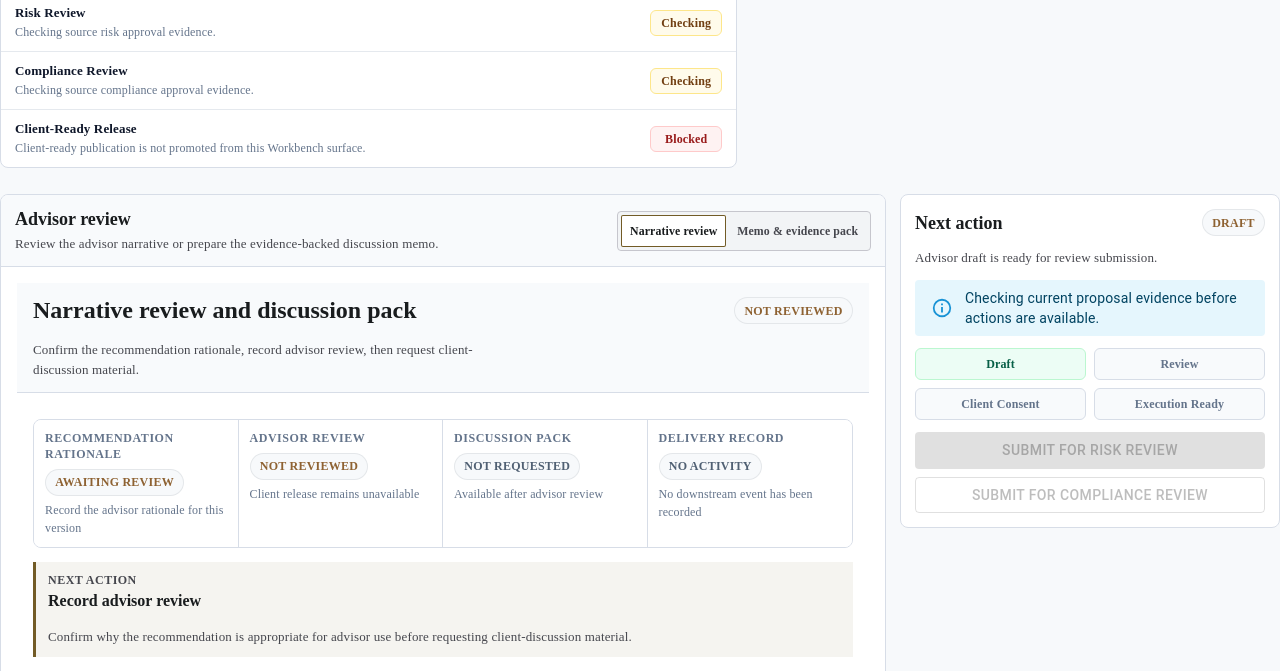
Scenario: ProposalDetailView › keeps proposal actions unavailable until initial review evidence settles
(page scrolled)
Expected: the text "Checking current proposal evidence before actions are available." is shown, [965, 280, 1249, 336]
Click the button "Submit for risk review" at (1090, 451), box [915, 432, 1265, 469]
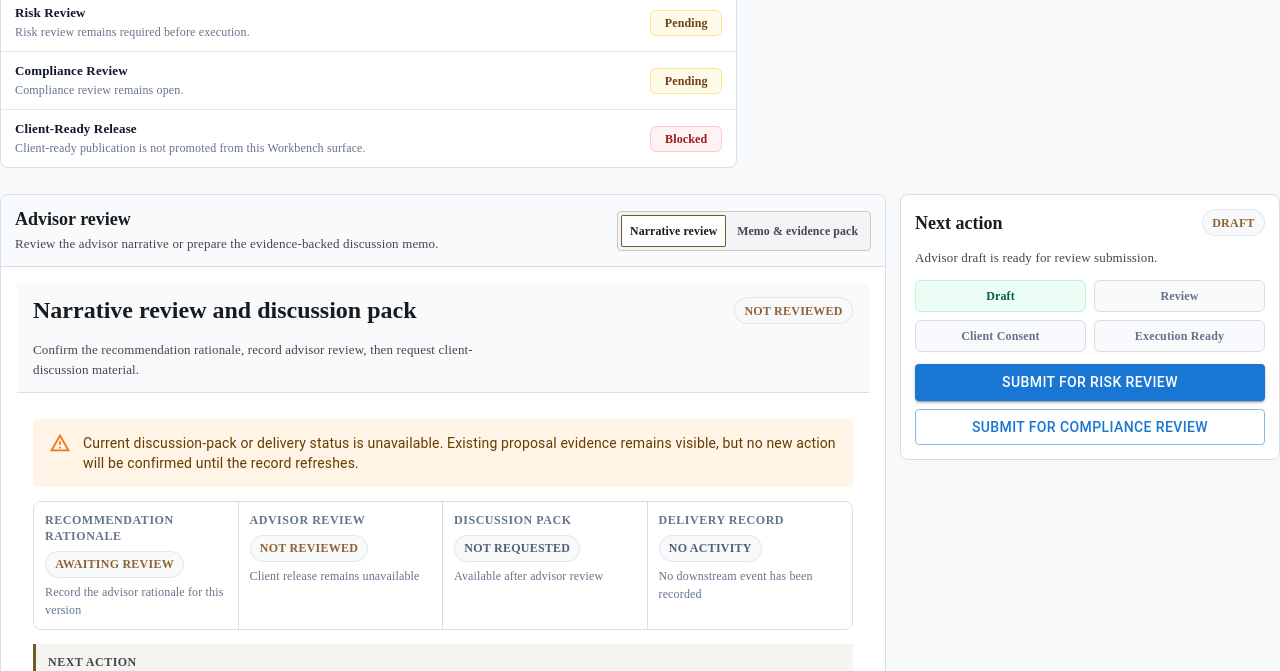
Now the button "Submit for risk review" is enabled
Click the button "Submit for risk review" at (1090, 383), box [915, 364, 1265, 401]
(page scrolled)
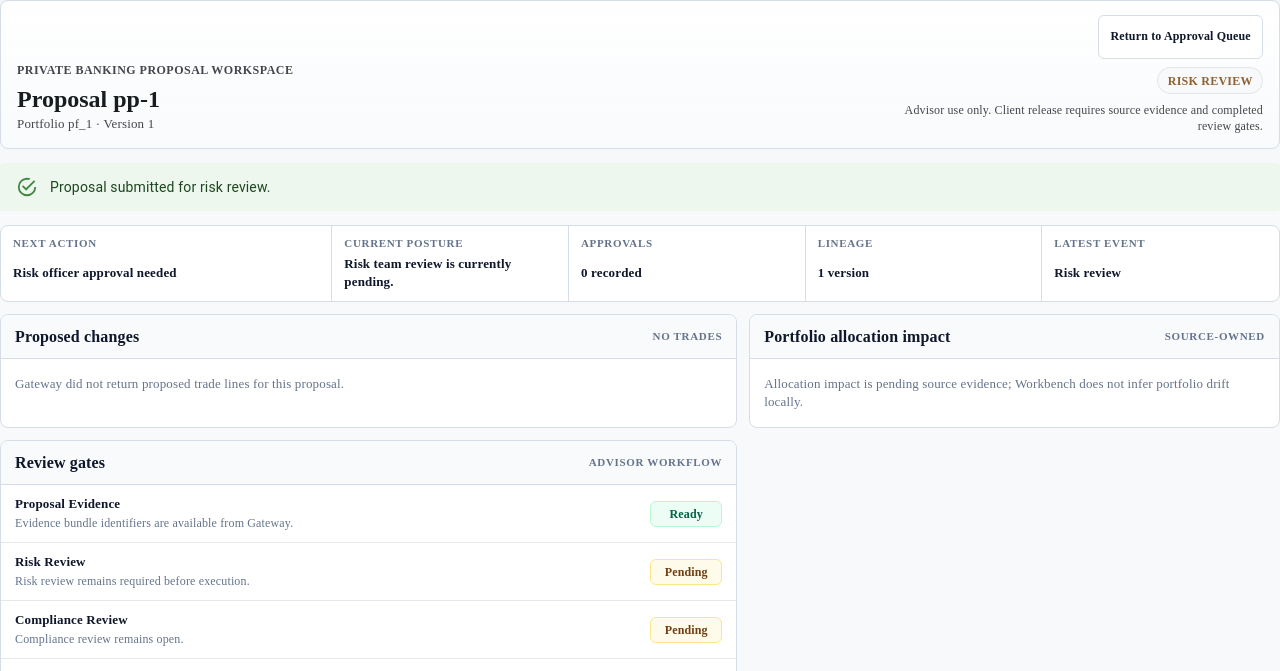
Now the message "Proposal submitted for risk review." is shown, box [0, 163, 1279, 211]
